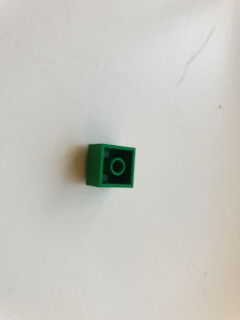2x2 green: (81, 139, 137, 191)
